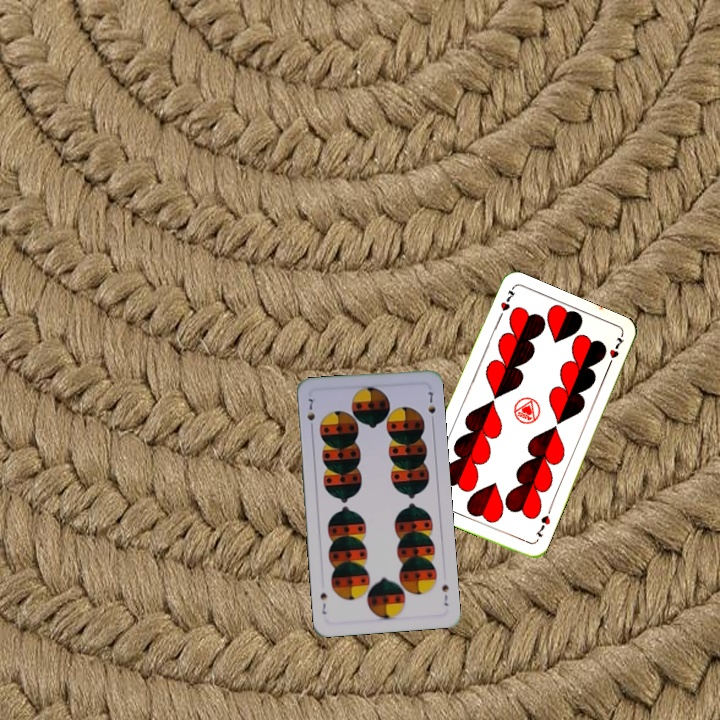H7: (494, 285, 518, 323), (531, 511, 553, 540)
S7: (303, 394, 318, 433), (438, 581, 451, 608)
